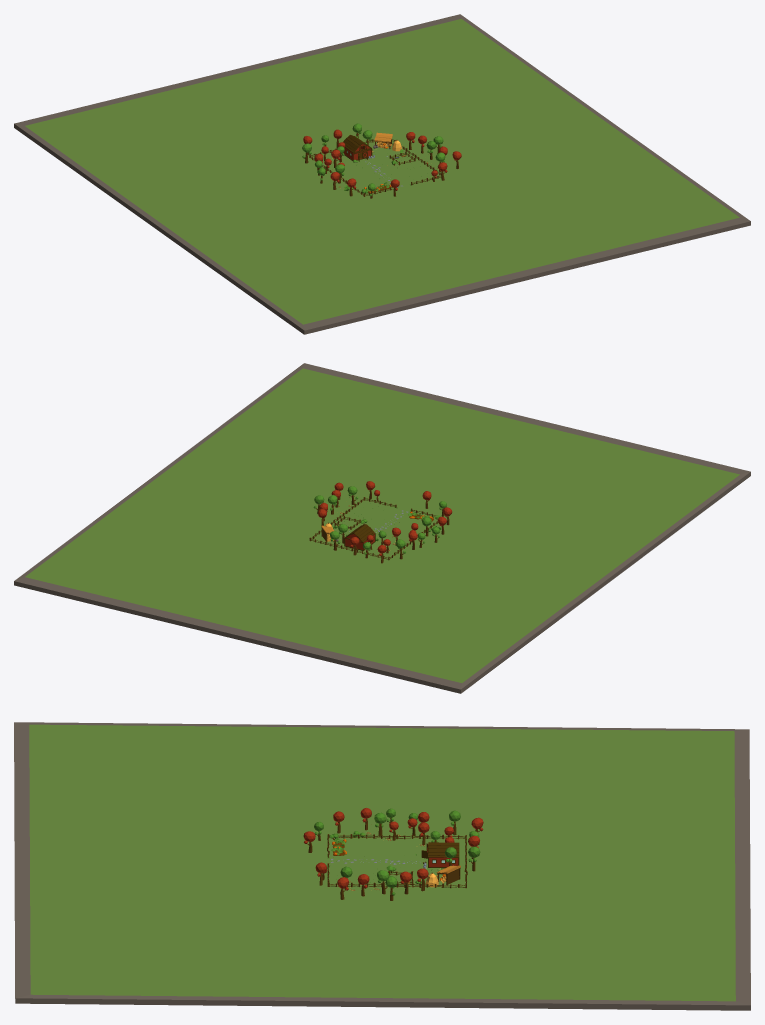
File: ground3.glb
3 views of the same model, one above another, from view 1: azimuth 30°, elevation 25°; view 2: azimuth 150°, elevation 25°; view 3: azimuth 270°, elevation 25° (orthographic). The views are drawn at different scales.
Parts seen in each view (by area): view 1: terrain, ambar; view 2: terrain; view 3: terrain, ambar.
Part boxes in pixels (x1=…): terrain: x1=14, y1=14, x2=750, y2=334; ambar: x1=342, y1=135, x2=372, y2=161; terrain: x1=14, y1=363, x2=750, y2=693; terrain: x1=14, y1=722, x2=750, y2=1010; ambar: x1=421, y1=842, x2=459, y2=868.
Size of the model in its own units: 187 by 10.44 by 211.
